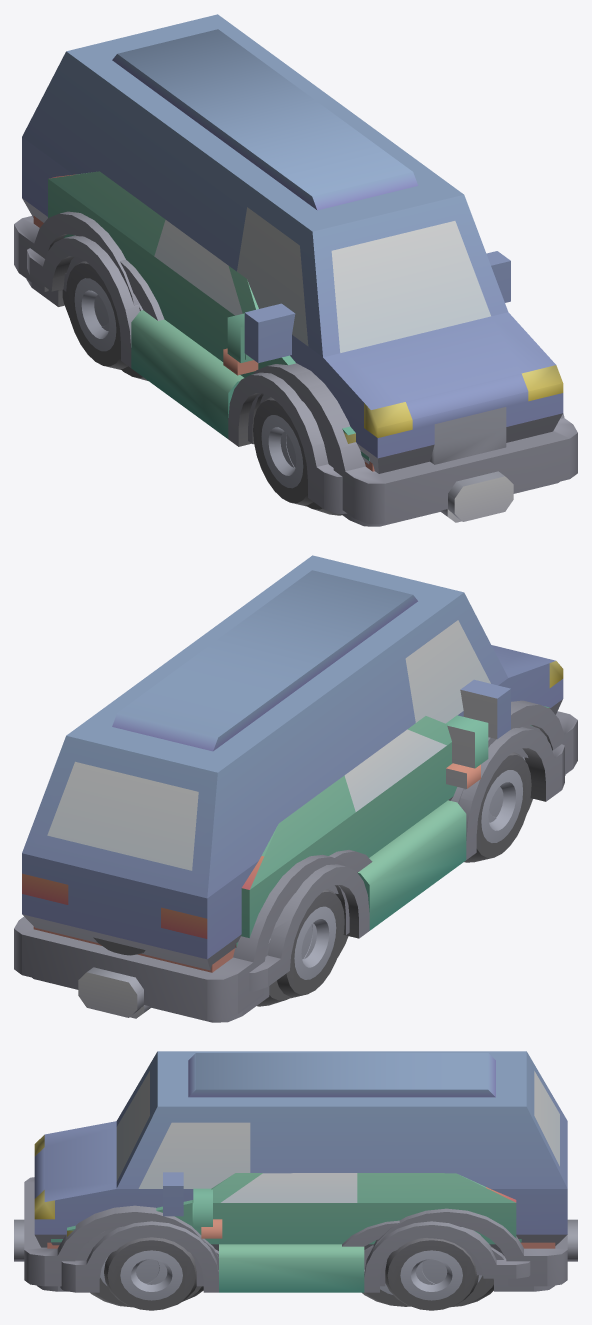
File: cars.glb
3 renders of one model, top to bottom at view 1: azimuth 30°, elevation 25°; view 2: azimuth 150°, elevation 25°; view 3: azimuth 270°, elevation 25°, orthographic. The views are drawn at different scales.
Parts seen in each view (by area): view 1: van, hatchback, suv, sedan; view 2: van, hatchback, suv, sedan; view 3: van, hatchback, suv, sedan.
Boxes of the visible parts, x1,y1,x2,y2 form: van: (14,14,577,524); hatchback: (27,171,355,513); suv: (63,256,369,467); sedan: (26,216,559,526); van: (14,555,577,1020); hatchback: (241,706,564,998); suv: (93,715,547,957); sedan: (32,748,565,1022); van: (14,1051,577,1307); hatchback: (60,1173,530,1310); suv: (51,1188,521,1306); sedan: (36,1219,555,1301).
Size of the model in its own units: 1.9 by 1.97 by 4.9.
